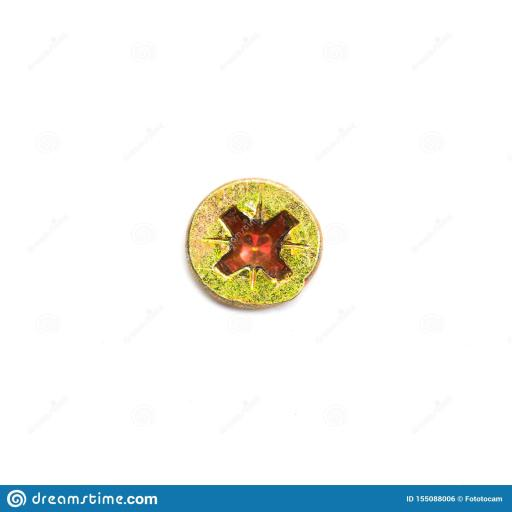Phillips: (187, 177, 322, 313)
